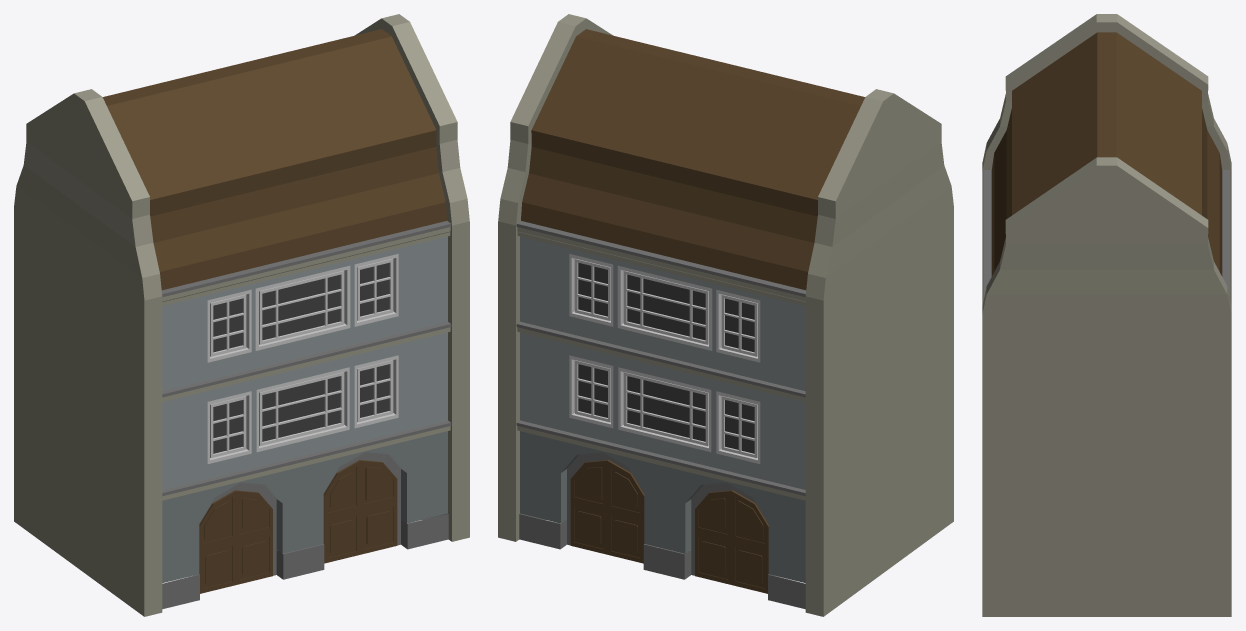
Rendered from Building2_Small.glb.
The picture shows the model from 3 angles, left to right: view 1: azimuth 30°, elevation 25°; view 2: azimuth 150°, elevation 25°; view 3: azimuth 270°, elevation 25°; orthographic projection. The views are drawn at different scales.
Visible parts, largest first — view 1: Building2_Small; view 2: Building2_Small; view 3: Building2_Small.
Boxes of the visible parts, left/top/right/bottom form: Building2_Small: left=14, top=14, right=469, bottom=616; Building2_Small: left=498, top=14, right=953, bottom=616; Building2_Small: left=982, top=14, right=1231, bottom=616.
Bounding box in the file's own units: 358 × 497 × 249.
